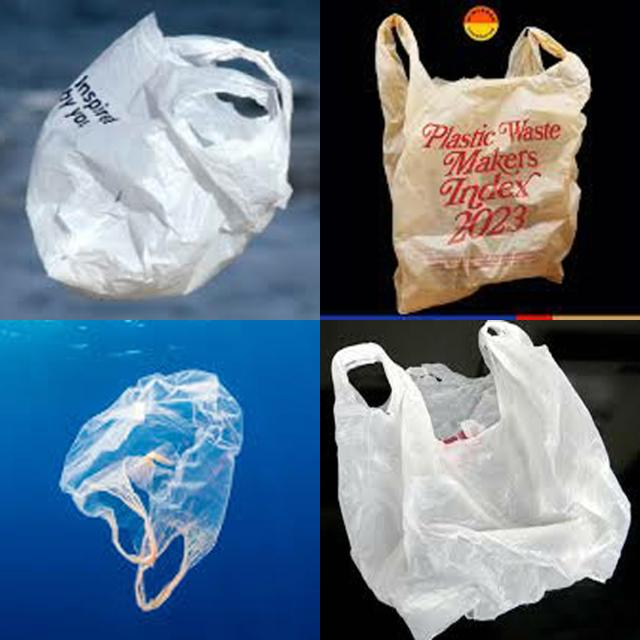Single-layer Plastic: (331, 321, 630, 639), (26, 14, 292, 299), (376, 15, 590, 314), (60, 370, 242, 611)
